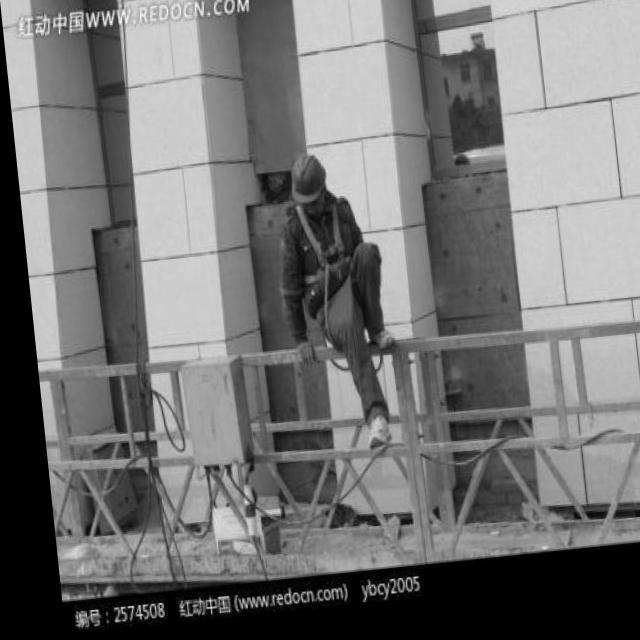belt: (284, 250, 358, 336)
